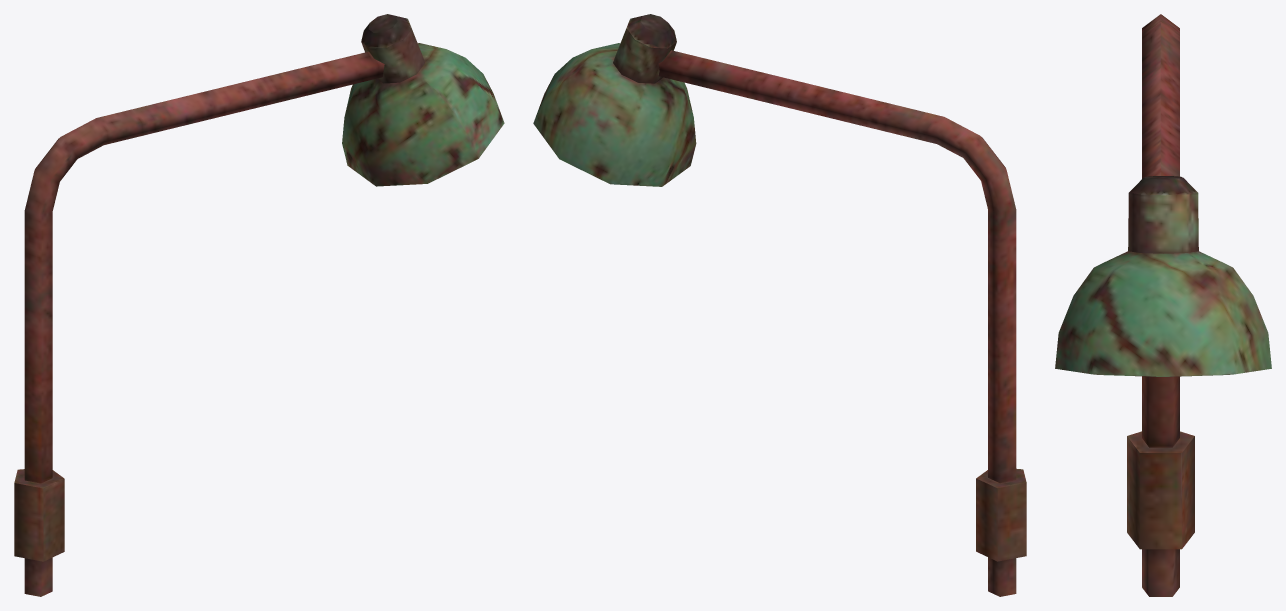
File: SingleLamp_WallMounted.FBX
The picture shows the model from 3 angles, left to right: view 1: azimuth 30°, elevation 25°; view 2: azimuth 150°, elevation 25°; view 3: azimuth 270°, elevation 25°; orthographic projection. The views are drawn at different scales.
Parts seen in each view (by area): view 1: SingleLamp_WallMounted; view 2: SingleLamp_WallMounted; view 3: SingleLamp_WallMounted.
Boxes of the visible parts, x1,y1,x2,y2 form: SingleLamp_WallMounted: [14, 14, 504, 596]; SingleLamp_WallMounted: [533, 14, 1026, 596]; SingleLamp_WallMounted: [1055, 14, 1271, 596].
Size of the model in its own units: 77.94 by 75.48 by 23.13.
